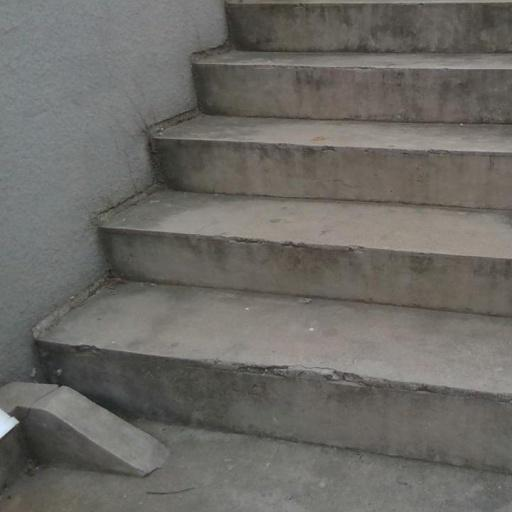stairs: (37, 0, 511, 471)
